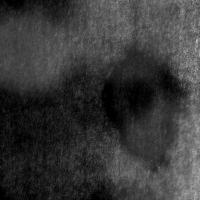patches: (67, 0, 187, 87), (105, 94, 200, 200), (102, 45, 180, 163), (0, 6, 74, 98)
